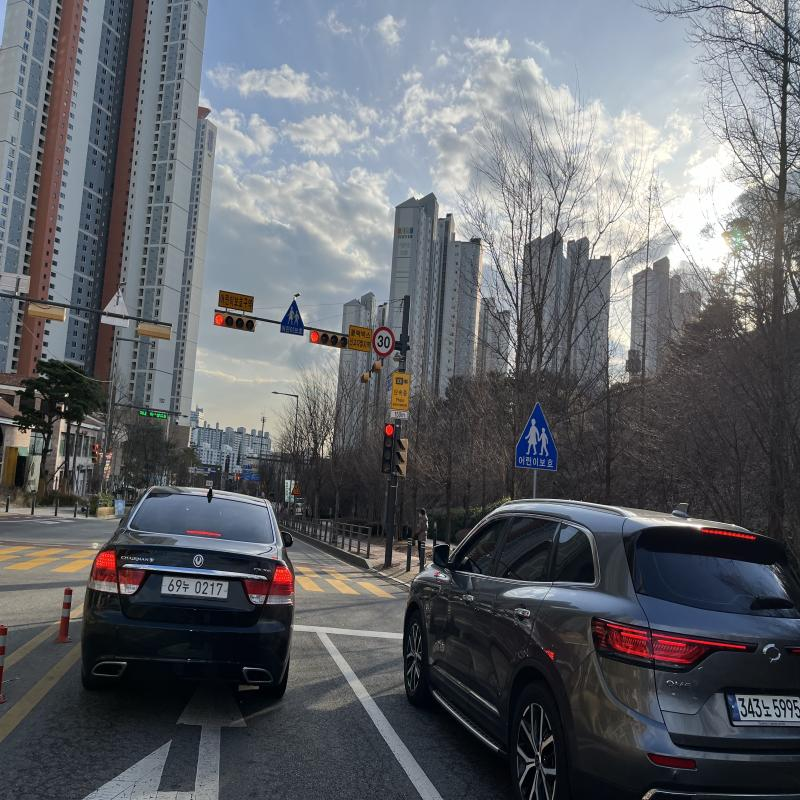red: (214, 312, 225, 326), (385, 424, 394, 438), (310, 331, 319, 343)
